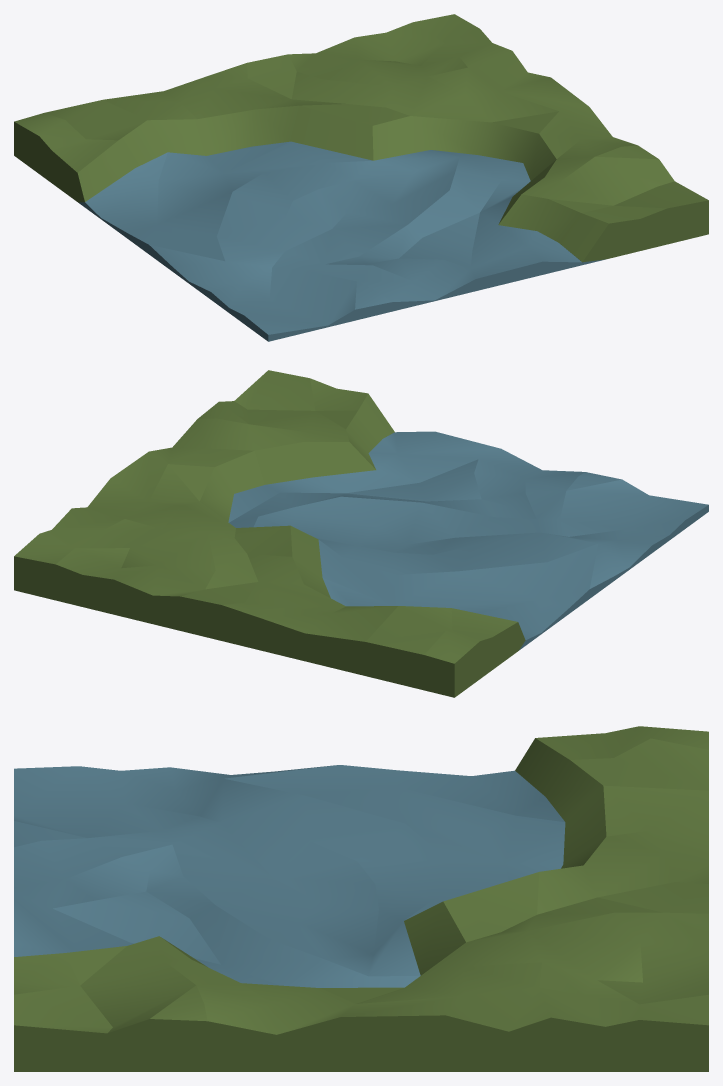
The model's file is Water_Corner_Internal_RU.glb.
The picture shows the model from 3 angles, top to bottom: view 1: azimuth 30°, elevation 25°; view 2: azimuth 150°, elevation 25°; view 3: azimuth 270°, elevation 25°; orthographic projection. The views are drawn at different scales.
Visible parts, largest first — view 1: Water_Corner_Internal_RU; view 2: Water_Corner_Internal_RU; view 3: Water_Corner_Internal_RU.
Part boxes in pixels (box(x1,y1,x2,y2)): Water_Corner_Internal_RU: box(14, 14, 708, 341); Water_Corner_Internal_RU: box(14, 370, 708, 697); Water_Corner_Internal_RU: box(14, 726, 708, 1071).
Bounding box in the file's own units: 1.47 × 0.1396 × 1.47.
